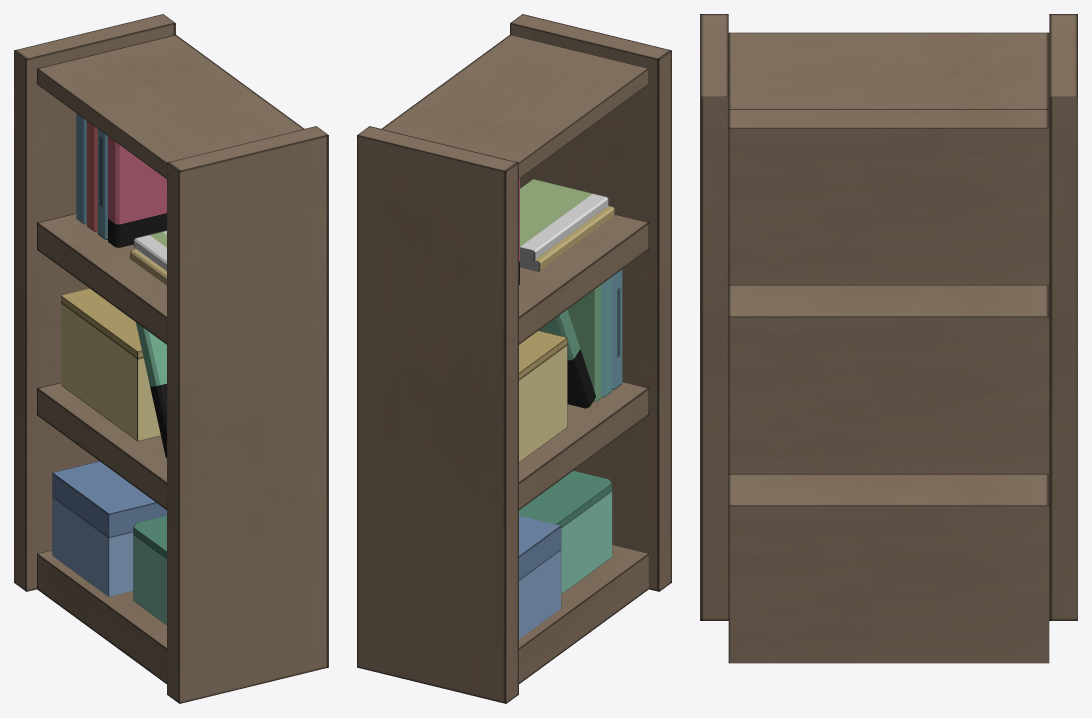
The model's file is shelf1_objects.fbx.
The picture shows the model from 3 angles, left to right: view 1: azimuth 30°, elevation 25°; view 2: azimuth 150°, elevation 25°; view 3: azimuth 270°, elevation 25°; orthographic projection. The views are drawn at different scales.
Parts seen in each view (by area): view 1: polySurface1605; view 2: polySurface1605; view 3: polySurface1605.
Boxes of the visible parts, x1=… form: polySurface1605: x1=14, y1=14, x2=328, y2=703; polySurface1605: x1=357, y1=14, x2=671, y2=703; polySurface1605: x1=700, y1=14, x2=1077, y2=663.
Size of the model in its own units: 0.4196 by 1.43 by 0.8066.
